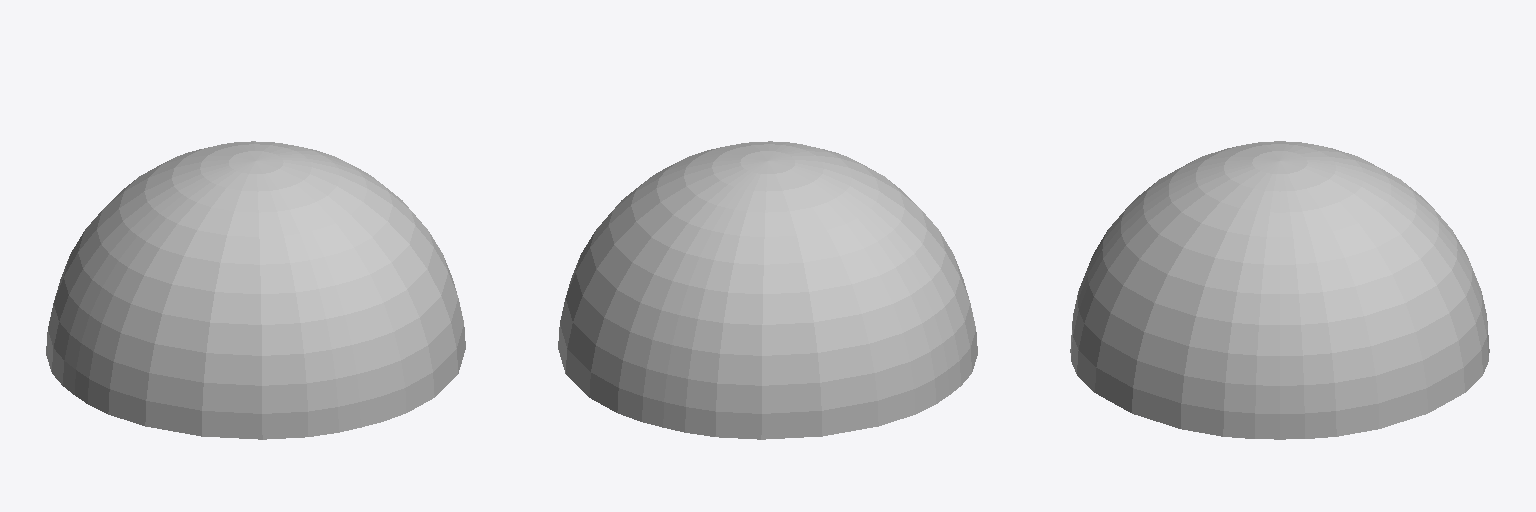
The model's file is cupula_nave.obj.
3 renders of one model, left to right at view 1: azimuth 30°, elevation 25°; view 2: azimuth 150°, elevation 25°; view 3: azimuth 270°, elevation 25°, orthographic.
Parts seen in each view (by area): view 1: SurfSphere; view 2: SurfSphere; view 3: SurfSphere.
Part boxes in pixels (bbox=[...]): SurfSphere: bbox=[46, 141, 465, 439]; SurfSphere: bbox=[558, 141, 977, 439]; SurfSphere: bbox=[1070, 141, 1489, 439].
Bounding box in the file's own units: 8.44 × 4.22 × 8.44.